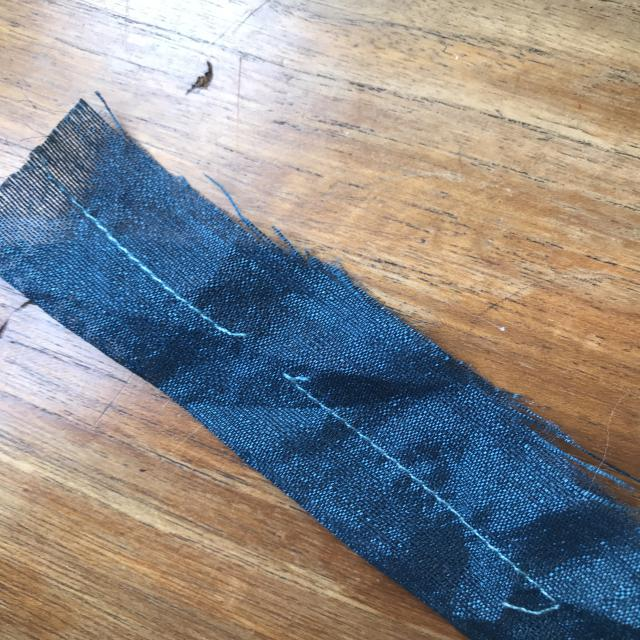broken: (193, 314, 327, 390)
